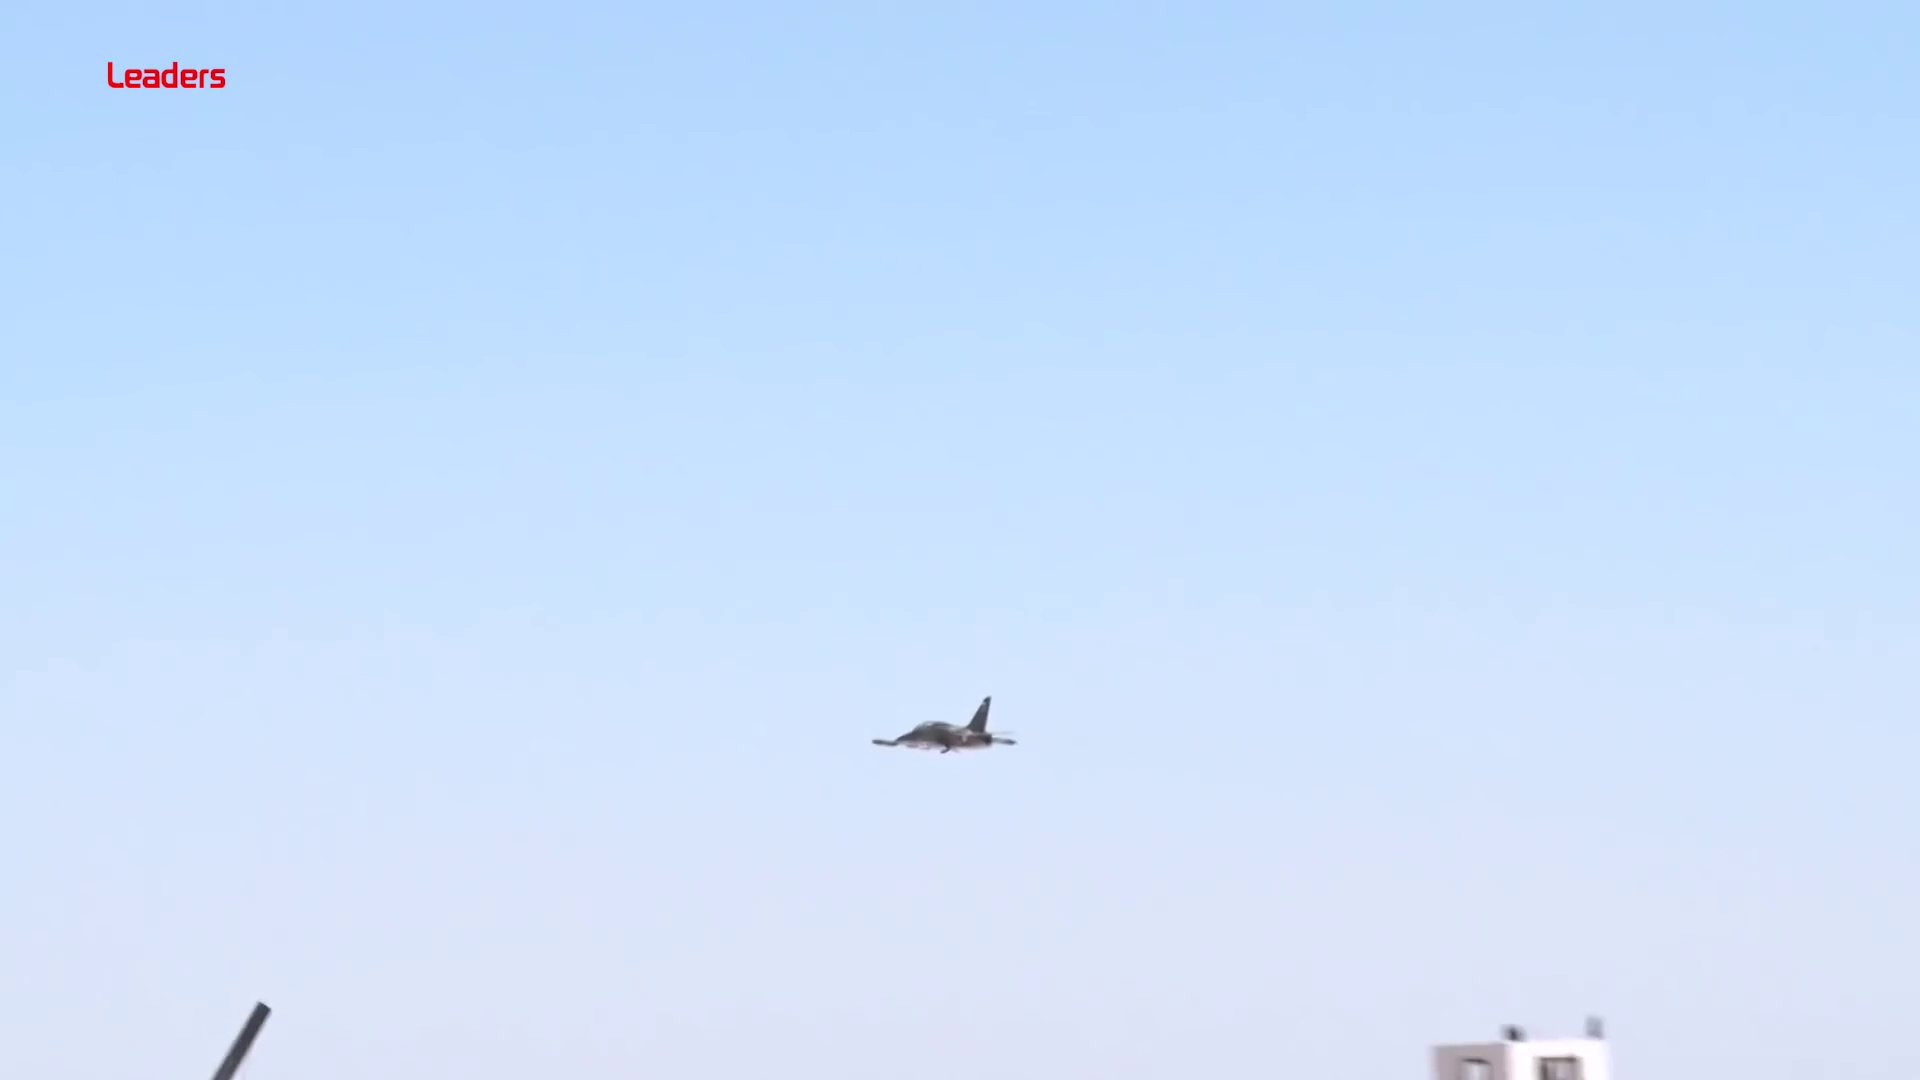Airplane: (869, 694, 1014, 765)
